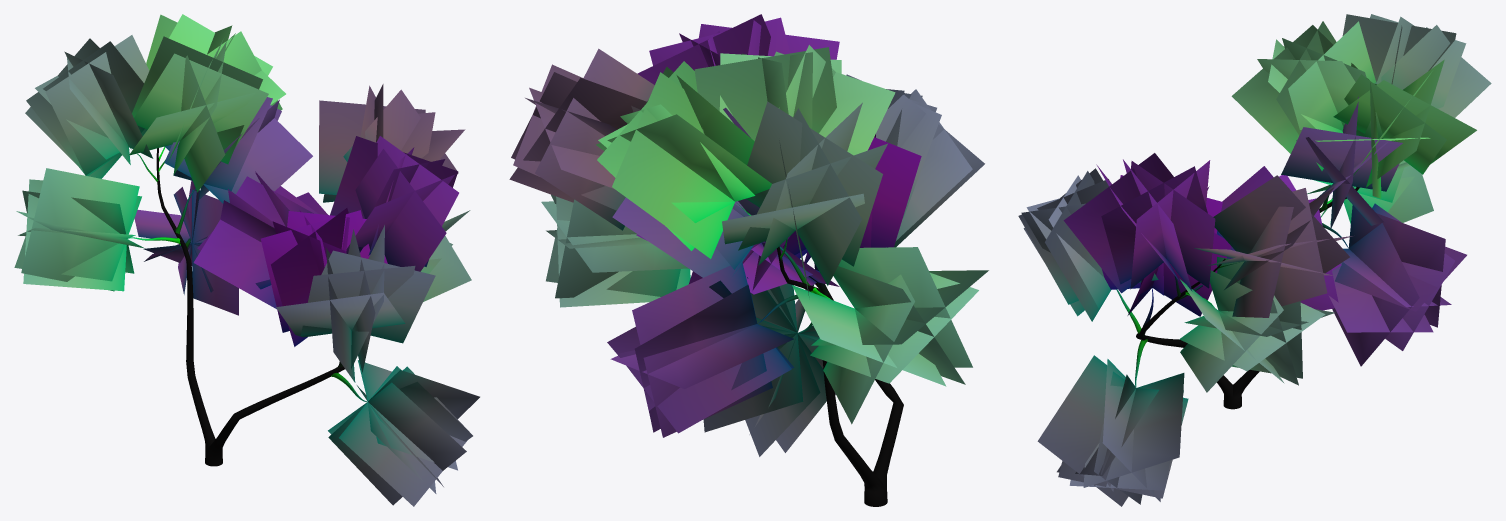
The model's file is URP_P6_Tree_6_LOD_0.fbx.
3 renders of one model, left to right at view 1: azimuth 30°, elevation 25°; view 2: azimuth 150°, elevation 25°; view 3: azimuth 270°, elevation 25°, orthographic. The views are drawn at different scales.
Visible parts, largest first — view 1: Tree_6_LOD_0; view 2: Tree_6_LOD_0; view 3: Tree_6_LOD_0.
Boxes of the visible parts, x1,y1,x2,y2 form: Tree_6_LOD_0: [14, 14, 479, 506]; Tree_6_LOD_0: [509, 14, 988, 506]; Tree_6_LOD_0: [1018, 14, 1491, 506].
Bounding box in the file's own units: 671 × 667 × 675.
